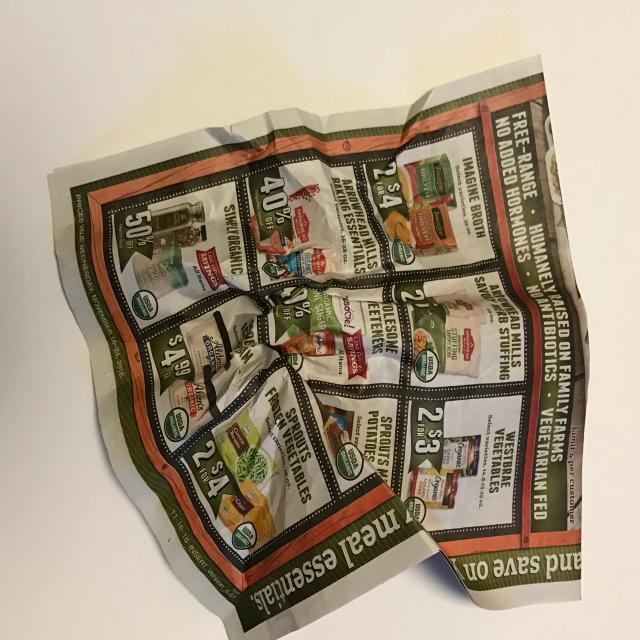paper: (58, 23, 614, 640)
